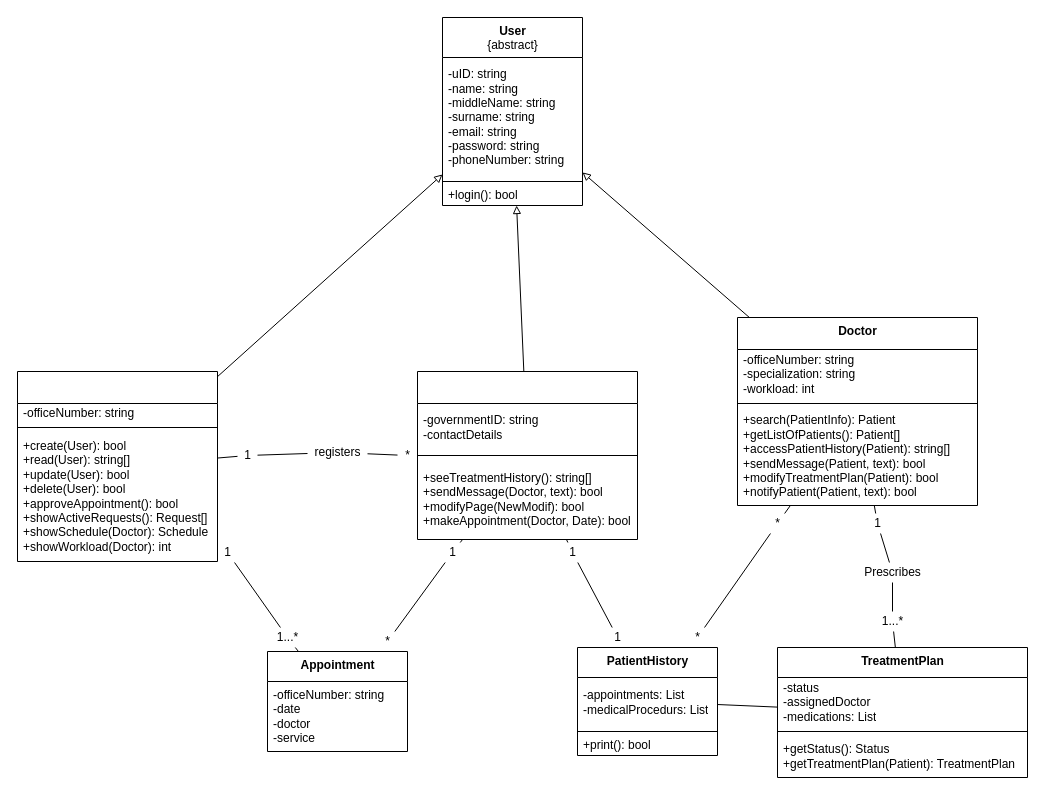
This 1045x795 diagram has some shape labels left out. Here are the shapes that lost their labels. From the top down, the box of each, then its label:
(16, 370, 218, 562): Admin
(416, 370, 638, 540): Patient
